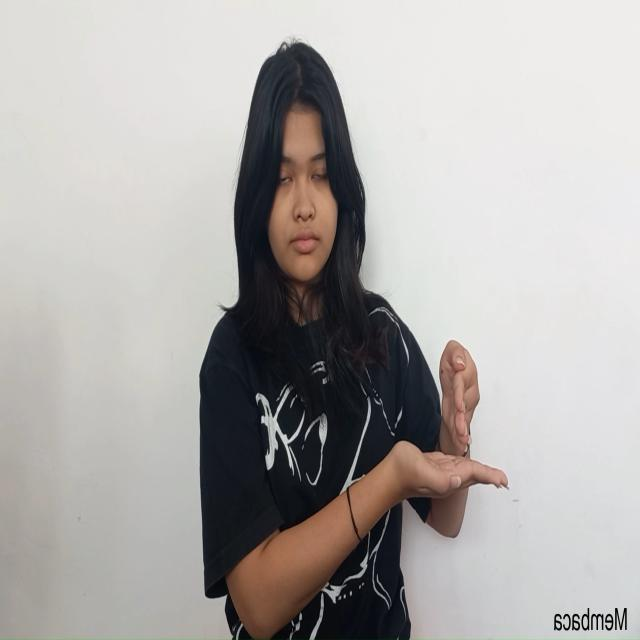Membaca -BISINDO-: (388, 340, 510, 508)
